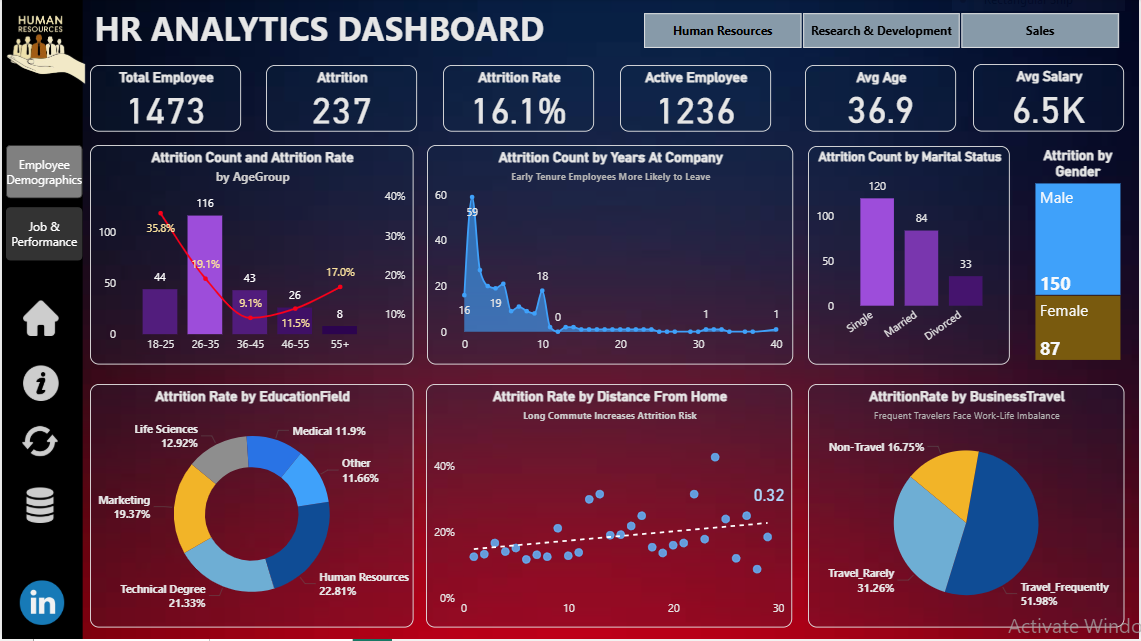

What the dashboard file says about the page in this screenshot:
{"tool":"powerbi","page":{"name":"Employee Demographics ","canvas":[1280,720],"ordinal":0},"visuals":[{"type":"card","title":"Total Employee","fields":{"Values":["CountNonNull(HR_Analytics.EmployeeCount)"]},"box":[98.7,74.6,170,75],"z":0},{"type":"card","title":"Attrition","fields":{"Values":["Sum(HR_Analytics.AttritionCount)"]},"box":[297.5,74.6,170,75],"z":1000},{"type":"card","title":"Attrition Rate","fields":{"Values":["HR_Analytics.AttritionRate"]},"box":[496.3,74.6,170,75.4],"z":2000},{"type":"card","title":"Active Employee","fields":{"Values":["HR_Analytics.Active Employee"]},"box":[695.1,74.6,170,75.4],"z":3000},{"type":"textbox","box":[98.7,2.3,535,66.6],"z":4000},{"type":"treemap","title":"Attrition by Gender","fields":{"Group":["HR_Analytics.Gender"],"Values":["Sum(HR_Analytics.AttritionCount)"]},"box":[1157.2,166.5,105.6,244.5],"z":5000},{"type":"slicer","fields":{"Values":["HR_Analytics.Department"]},"box":[696.2,8.6,583.8,53.1],"z":6000},{"type":"lineClusteredColumnComboChart","title":"Attrition Count and Attrition Rate ","fields":{"Category":["HR_Analytics.AgeGroup"],"Y":["Sum(HR_Analytics.AttritionCount)"],"Y2":["HR_Analytics.AttritionRate"]},"box":[98.7,164.2,363.9,246.8],"z":7000},{"type":"donutChart","title":"Attrition Rate by EducationField","fields":{"Y":["HR_Analytics.AttritionRate"],"Category":["HR_Analytics.EducationField"]},"box":[98.7,432.8,363.9,274.4],"z":8000},{"type":"columnChart","title":"Attrition Count by Marital Status","fields":{"Category":["HR_Analytics.MaritalStatus"],"Y":["Sum(HR_Analytics.AttritionCount)"]},"box":[906.9,165.3,227.3,245.7],"z":9000},{"type":"areaChart","title":"Attrition Count by Years At Company","fields":{"Category":["HR_Analytics.YearsAtCompany"],"Y":["Sum(HR_Analytics.AttritionCount)"]},"box":[478.1,163.9,411.8,246.5],"z":10000},{"type":"pieChart","fields":{"Category":["HR_Analytics.BusinessTravel"],"Y":["HR_Analytics.AttritionRate"]},"box":[906.9,432.8,355.9,274.4],"z":11000},{"type":"scatterChart","title":"Attrition Rate by Distance From Home","fields":{"X":["HR_Analytics.DistanceFromHome"],"Y":["HR_Analytics.AttritionRate"]},"box":[477.6,432.8,412.1,274.4],"z":12000},{"type":"shape","box":[0,0,90.8,720.6],"z":13000},{"type":"image","box":[0,0,98.9,112.4],"z":14000},{"type":"pageNavigator","box":[4.1,163.9,86.7,131.4],"z":15000},{"type":"image","box":[16.3,334.6,55.5,50.1],"z":16000},{"type":"image","box":[16.3,407.7,55.5,50.1],"z":17000},{"type":"image","box":[16.3,472.7,54.2,50.1],"z":18000},{"type":"image","box":[16.3,544.5,54.2,50.1],"z":19000},{"type":"image","box":[0,648.8,90.8,59.6],"z":20000},{"type":"card","title":"Avg Salary","fields":{"Values":["Avg(HR_Analytics.MonthlyIncome)"]},"box":[1092.8,73.3,170.1,75.9],"z":21000},{"type":"card","title":"Avg Age","fields":{"Values":["Avg(HR_Analytics.Age)"]},"box":[903.1,74.6,170.1,74.6],"z":22000},{"type":"card","title":"Correlation","fields":{"Values":["HR_Analytics.Correlation"]},"box":[837,544.5,51.8,28.1],"z":24000}]}

Visuals, with their boxes on the page's 1280x720 design canvas (x1, y1, x2, y2). These are canvas units, not pixel positions in the 1141x641 screenshot, which may show the page scaled, cropped or inside an application window:
"Total Employee" card: [99,75,269,150]
"Attrition" card: [298,75,468,150]
"Attrition Rate" card: [496,75,666,150]
"Active Employee" card: [695,75,865,150]
textbox: [99,2,634,69]
"Attrition by Gender" treemap: [1157,166,1263,411]
slicer - HR_Analytics.Department: [696,9,1280,62]
"Attrition Count and Attrition Rate " lineClusteredColumnComboChart: [99,164,463,411]
"Attrition Rate by EducationField" donutChart: [99,433,463,707]
"Attrition Count by Marital Status" columnChart: [907,165,1134,411]
"Attrition Count by Years At Company" areaChart: [478,164,890,410]
pieChart - HR_Analytics.BusinessTravel x HR_Analytics.AttritionRate: [907,433,1263,707]
"Attrition Rate by Distance From Home" scatterChart: [478,433,890,707]
shape: [0,0,91,721]
image: [0,0,99,112]
pageNavigator: [4,164,91,295]
image: [16,335,72,385]
image: [16,408,72,458]
image: [16,473,70,523]
image: [16,544,70,595]
image: [0,649,91,708]
"Avg Salary" card: [1093,73,1263,149]
"Avg Age" card: [903,75,1073,149]
"Correlation" card: [837,544,889,573]
